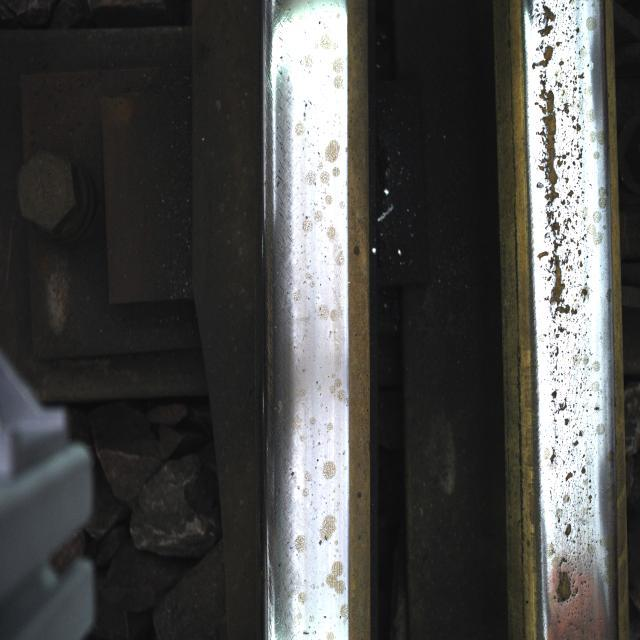scar: (289, 90, 346, 596), (530, 1, 601, 338), (548, 485, 598, 631)
